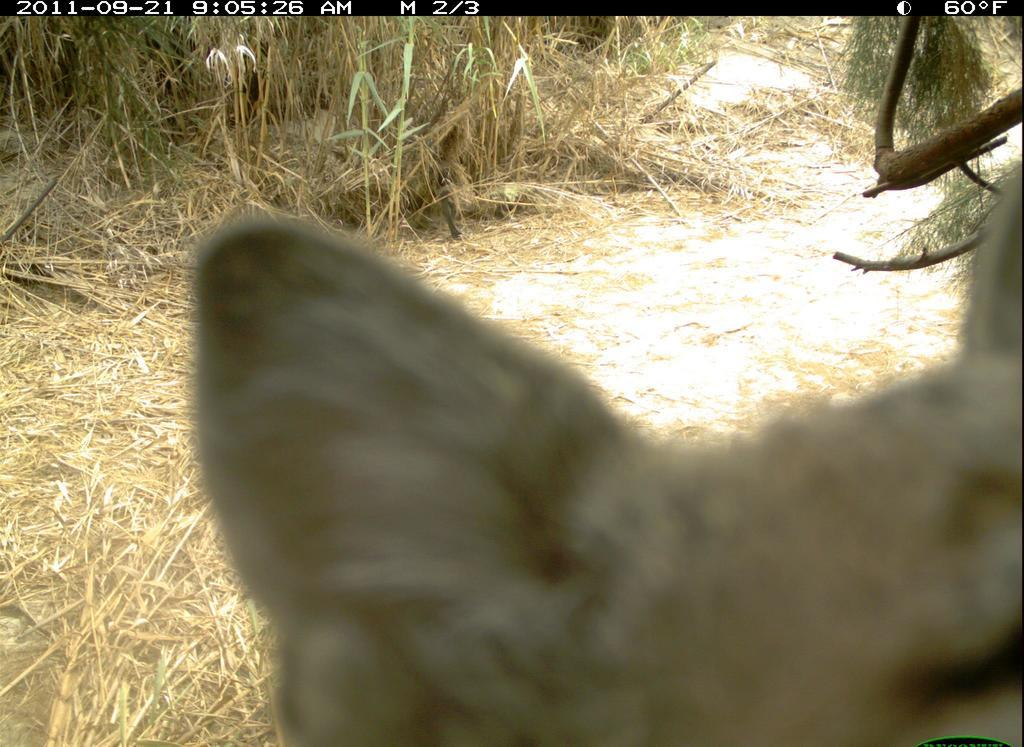bobcat: (153, 161, 1023, 747)
